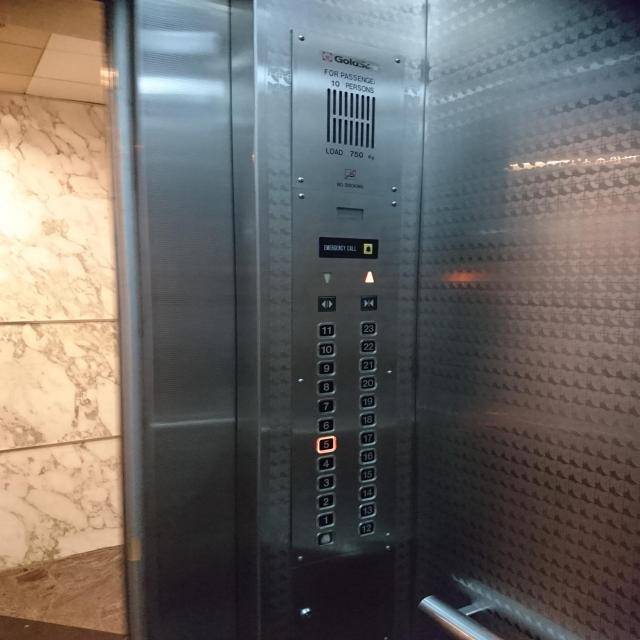1: (316, 511, 334, 528)
10: (316, 341, 336, 357)
11: (317, 322, 336, 339)
12: (358, 520, 375, 537)
13: (358, 502, 376, 519)
14: (358, 484, 377, 501)
15: (358, 466, 377, 482)
16: (358, 448, 376, 464)
17: (358, 429, 376, 446)
18: (358, 412, 376, 428)
19: (358, 393, 376, 409)
2: (316, 492, 336, 510)
20: (358, 375, 376, 391)
21: (358, 357, 376, 372)
22: (359, 338, 377, 354)
23: (360, 320, 378, 336)
3: (316, 473, 336, 491)
4: (317, 454, 335, 471)
5: (317, 435, 336, 453)
6: (316, 416, 335, 434)
7: (317, 397, 336, 414)
8: (316, 378, 336, 396)
9: (316, 360, 336, 376)
alarm: (363, 243, 372, 254)
blur: (315, 530, 335, 547)
close: (359, 295, 378, 311)
keyhole: (299, 605, 313, 620)
open: (317, 295, 336, 312)
